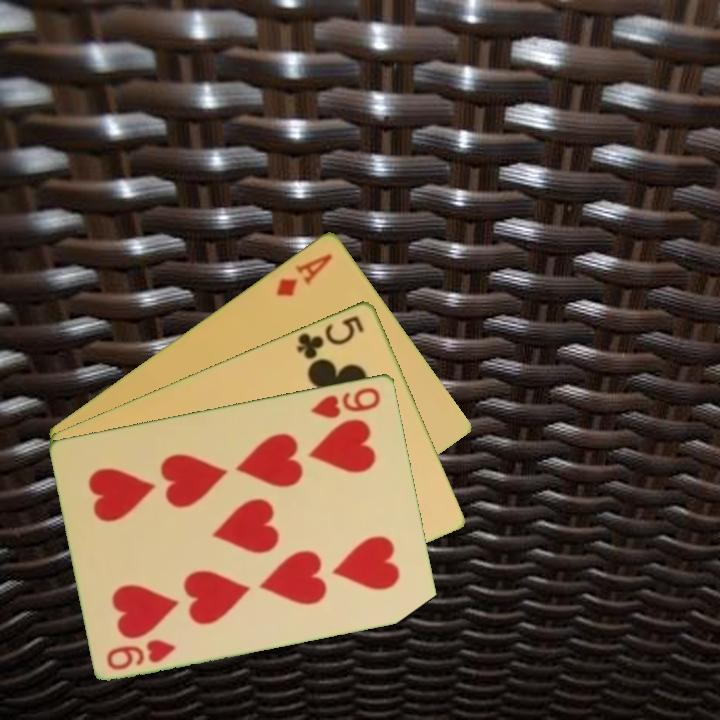5c: (293, 311, 368, 362)
9h: (307, 383, 384, 421), (103, 635, 178, 673)
Ad: (272, 249, 336, 299)
